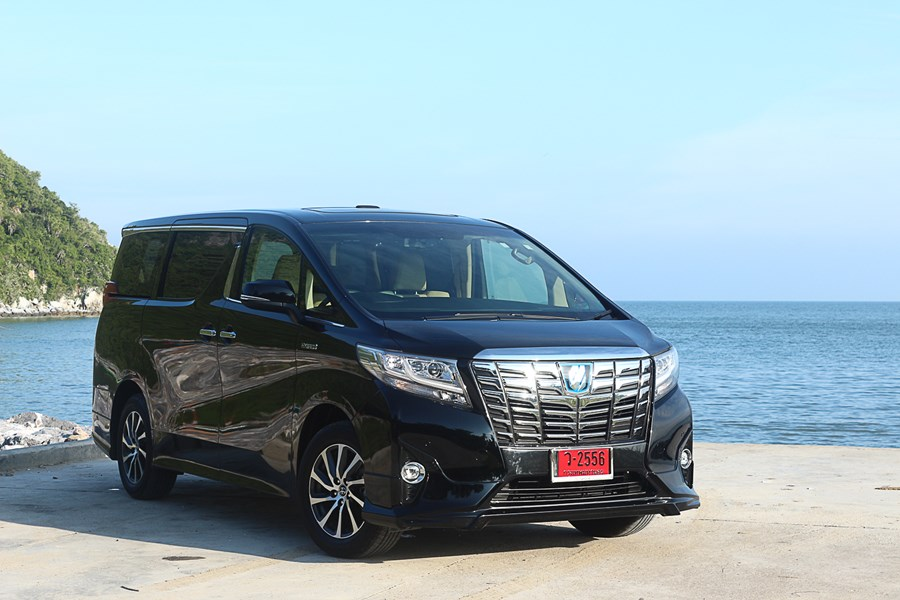van: (88, 204, 706, 563)
